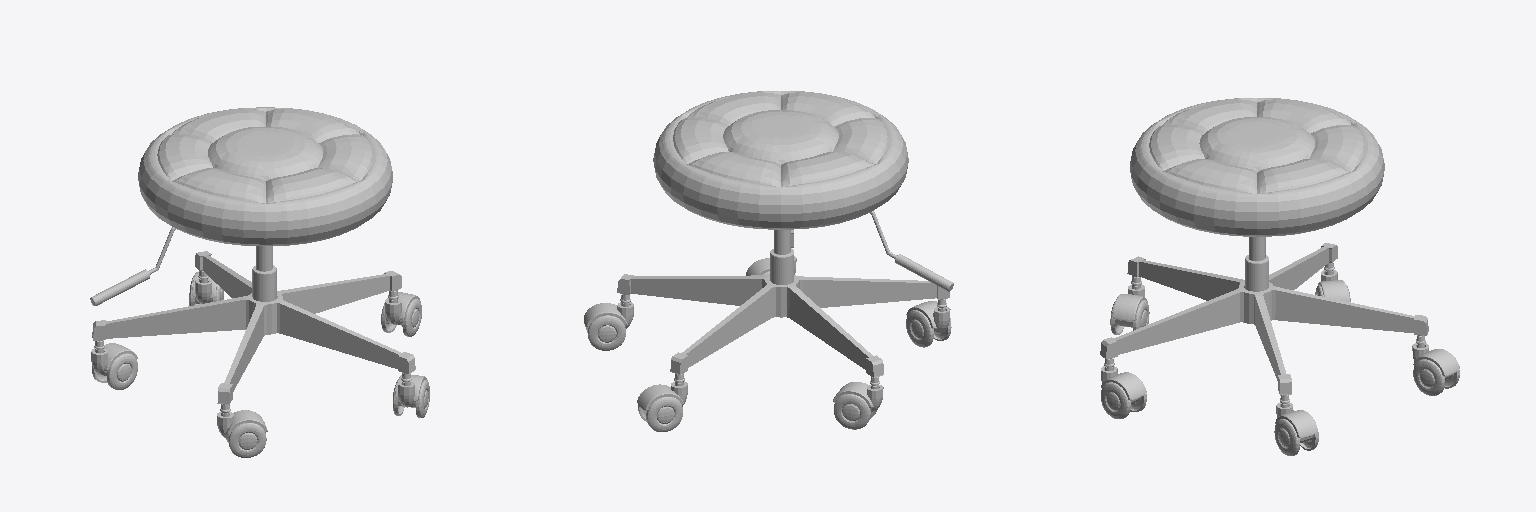
Rendered from USE_THIS_chair_komplett.obj.
3 renders of one model, left to right at view 1: azimuth 30°, elevation 25°; view 2: azimuth 150°, elevation 25°; view 3: azimuth 270°, elevation 25°, orthographic.
Visible parts, largest first — view 1: footstool_blender; view 2: footstool_blender; view 3: footstool_blender.
Part boxes in pixels (left/top/right/bottom): footstool_blender: left=90, top=107, right=429, bottom=457; footstool_blender: left=584, top=91, right=953, bottom=431; footstool_blender: left=1100, top=98, right=1459, bottom=455.
Bounding box in the file's own units: 3.2 × 2.12 × 2.86.